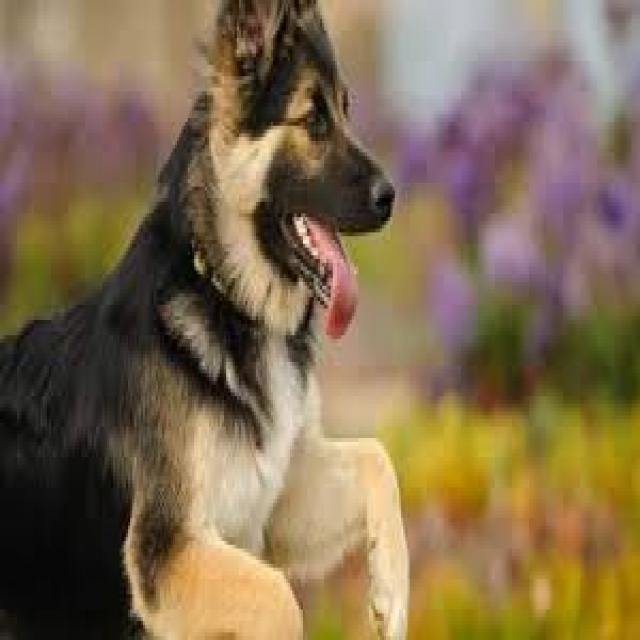Dog: (0, 3, 413, 640)
